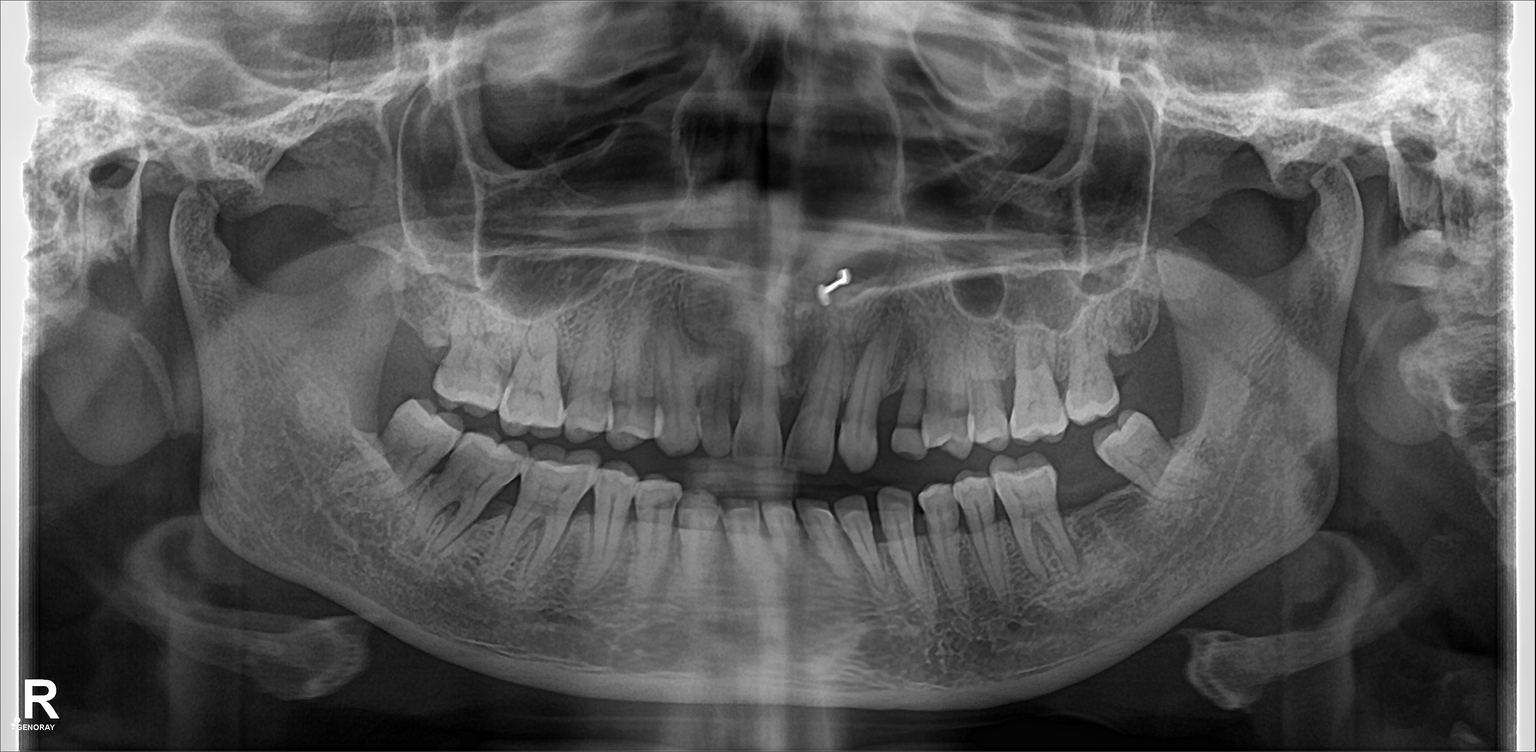Impacted Third Molar: (1092, 421, 1193, 484)
Missing Tooth: (1110, 302, 1168, 387), (402, 302, 442, 389), (1071, 449, 1107, 538)
